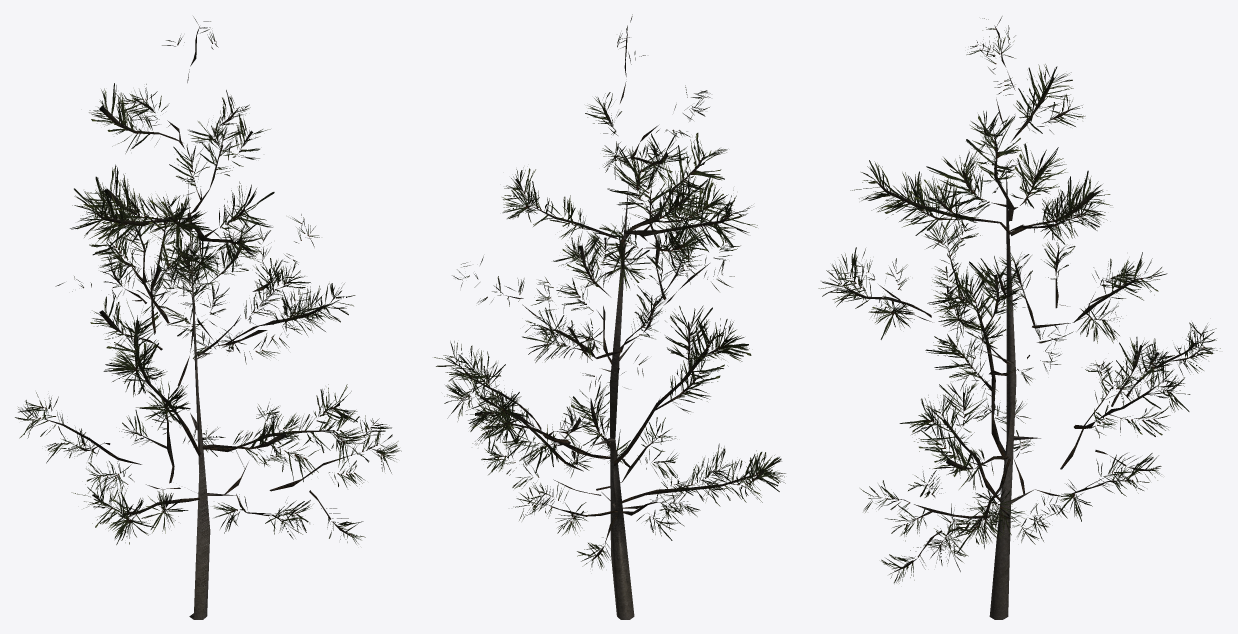
The model's file is pine_sapling_small_c.glb.
3 renders of one model, left to right at view 1: azimuth 30°, elevation 25°; view 2: azimuth 150°, elevation 25°; view 3: azimuth 270°, elevation 25°, orthographic.
Visible parts, largest first — view 1: pine_sapling_small_c__lodS; view 2: pine_sapling_small_c__lodS; view 3: pine_sapling_small_c__lodS.
Part boxes in pixels (x1,y1,x2,y2): pine_sapling_small_c__lodS: (15, 16, 401, 619); pine_sapling_small_c__lodS: (434, 14, 785, 619); pine_sapling_small_c__lodS: (818, 16, 1220, 619).
Size of what is drawn, in the model's own units: 0.5121 by 0.9473 by 0.5804.
Materials: 2 (2 with a texture image).
